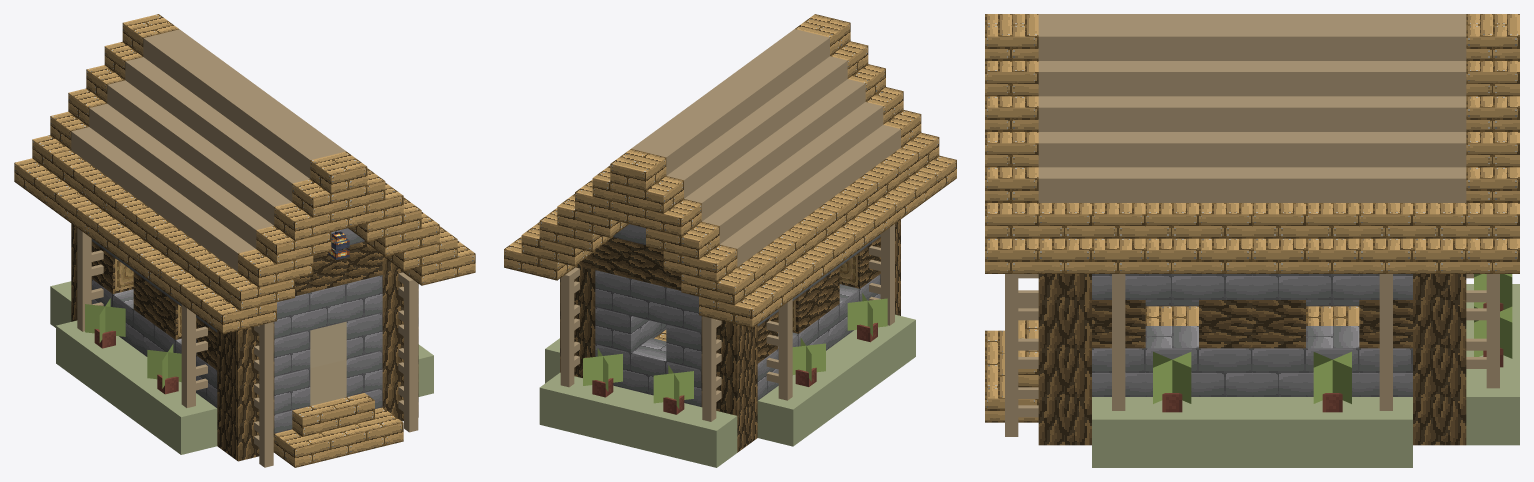
The model's file is Home3.fbx.
The picture shows the model from 3 angles, left to right: view 1: azimuth 30°, elevation 25°; view 2: azimuth 150°, elevation 25°; view 3: azimuth 270°, elevation 25°; orthographic projection. The views are drawn at different scales.
Visible parts, largest first — view 1: Home3; view 2: Home3; view 3: Home3.
Part boxes in pixels (x1=…): Home3: x1=14, y1=14, x2=475, y2=467; Home3: x1=504, y1=14, x2=956, y2=467; Home3: x1=985, y1=14, x2=1519, y2=467.
Bounding box in the file's own units: 700 × 750 × 1000.
